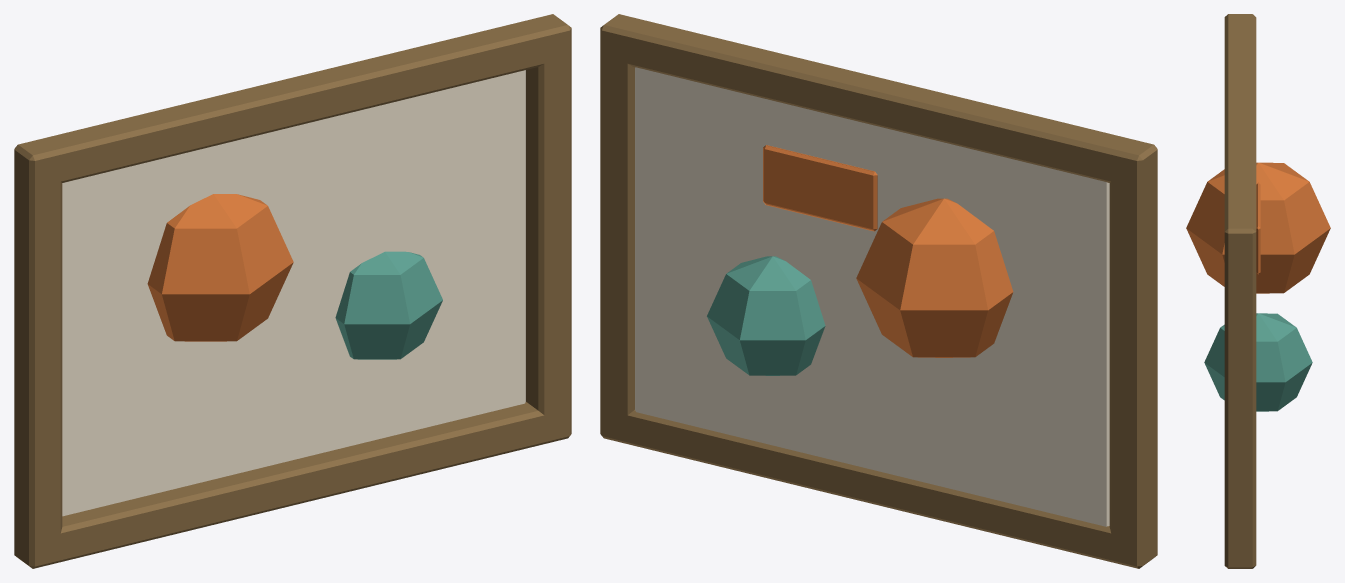
File: wall-art.glb
The picture shows the model from 3 angles, left to right: view 1: azimuth 30°, elevation 25°; view 2: azimuth 150°, elevation 25°; view 3: azimuth 270°, elevation 25°; orthographic projection. The views are drawn at different scales.
Parts seen in each view (by area): view 1: WallArt; view 2: WallArt; view 3: WallArt.
Boxes of the visible parts, bbox=[...] form: WallArt: bbox=[14, 14, 571, 568]; WallArt: bbox=[600, 14, 1157, 568]; WallArt: bbox=[1186, 14, 1330, 568].
Size of the model in its own units: 0.57 by 0.415 by 0.16.
